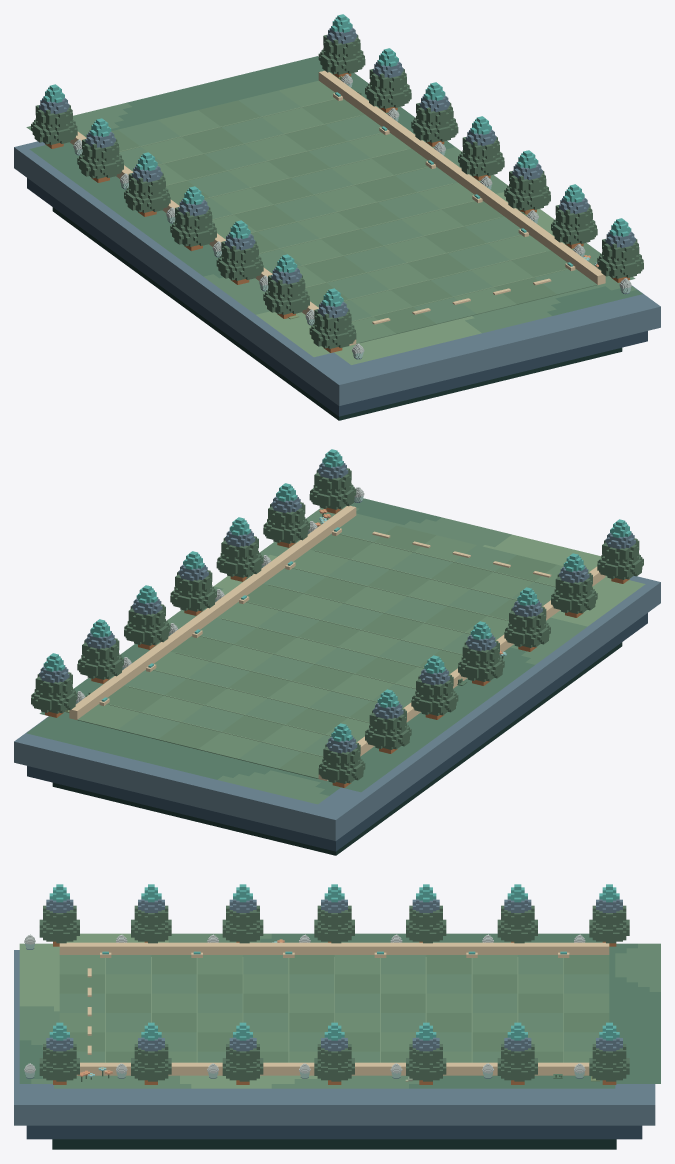
Rendered from chain_polluted.glb.
The picture shows the model from 3 angles, top to bottom: view 1: azimuth 30°, elevation 25°; view 2: azimuth 150°, elevation 25°; view 3: azimuth 270°, elevation 25°; orthographic projection.
Visible parts, largest first — view 1: chain_ground, chain_occluders; view 2: chain_ground, chain_occluders; view 3: chain_ground, chain_occluders.
Boxes of the visible parts, x1,y1,x2,y2 form: chain_ground: [14, 56, 660, 420]; chain_occluders: [31, 14, 643, 352]; chain_ground: [14, 487, 660, 855]; chain_occluders: [31, 449, 643, 787]; chain_ground: [14, 933, 660, 1149]; chain_occluders: [39, 884, 629, 1084].
Size of the model in its own units: 16.28 by 6.1 by 28.25.
